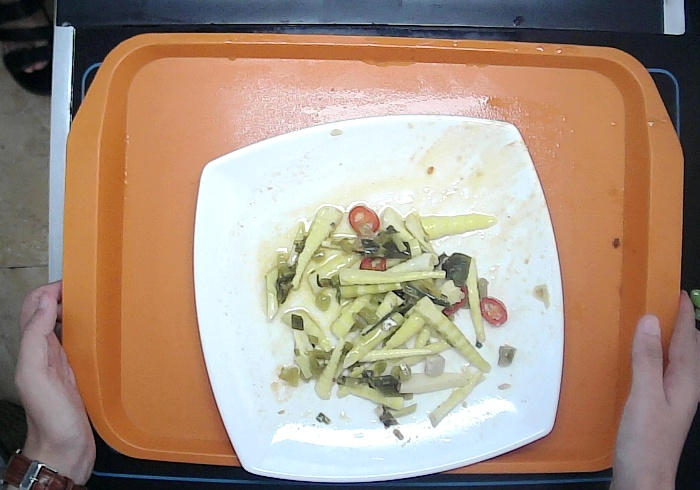ZNLD-Bai_Fang_Pan: (187, 108, 564, 483)
